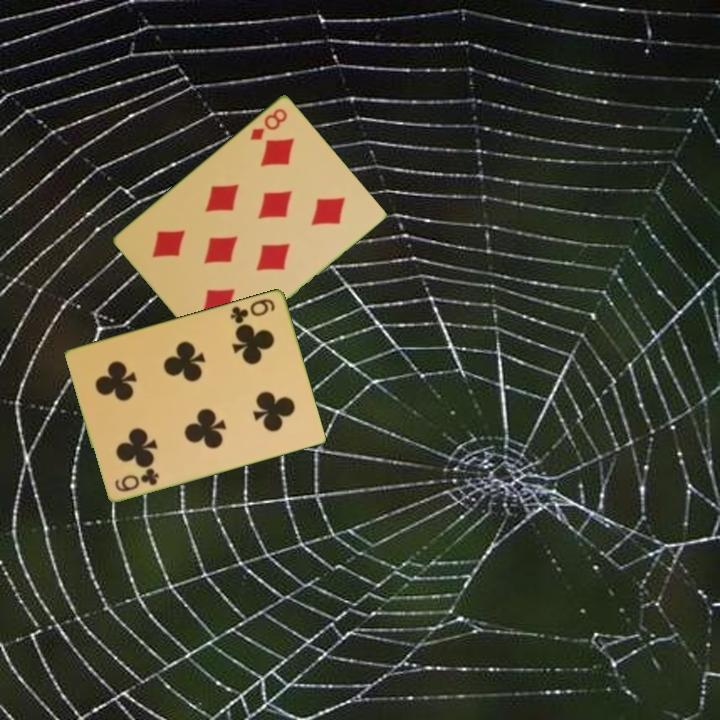6c: (227, 295, 278, 326), (111, 465, 162, 494)
8d: (246, 104, 290, 143)
